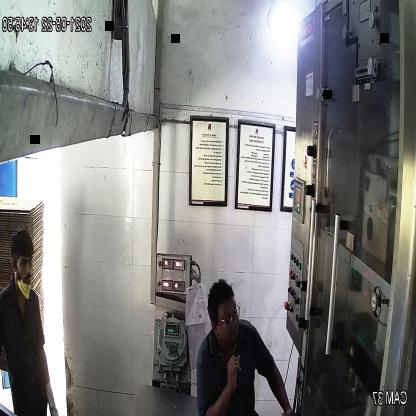goggles: (215, 304, 243, 330)
no_goggles: (14, 252, 36, 272)
